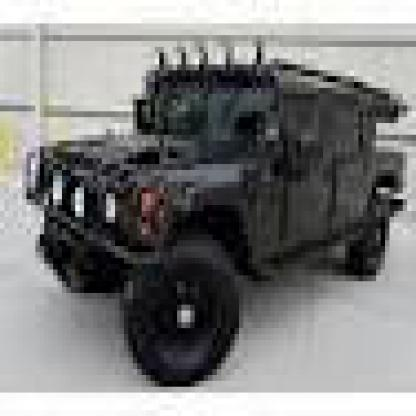Vehicle: (26, 41, 412, 404)
